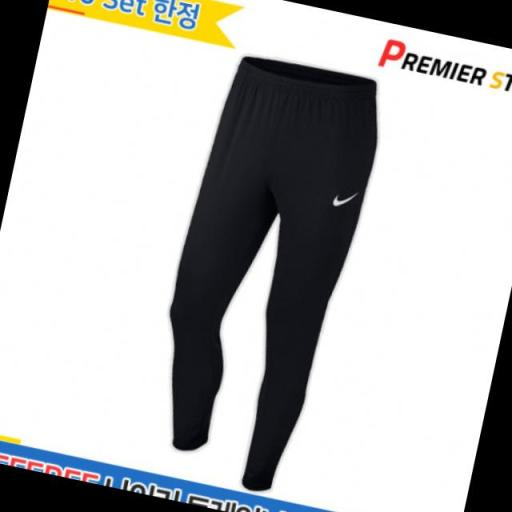Nike: (326, 186, 359, 212)
